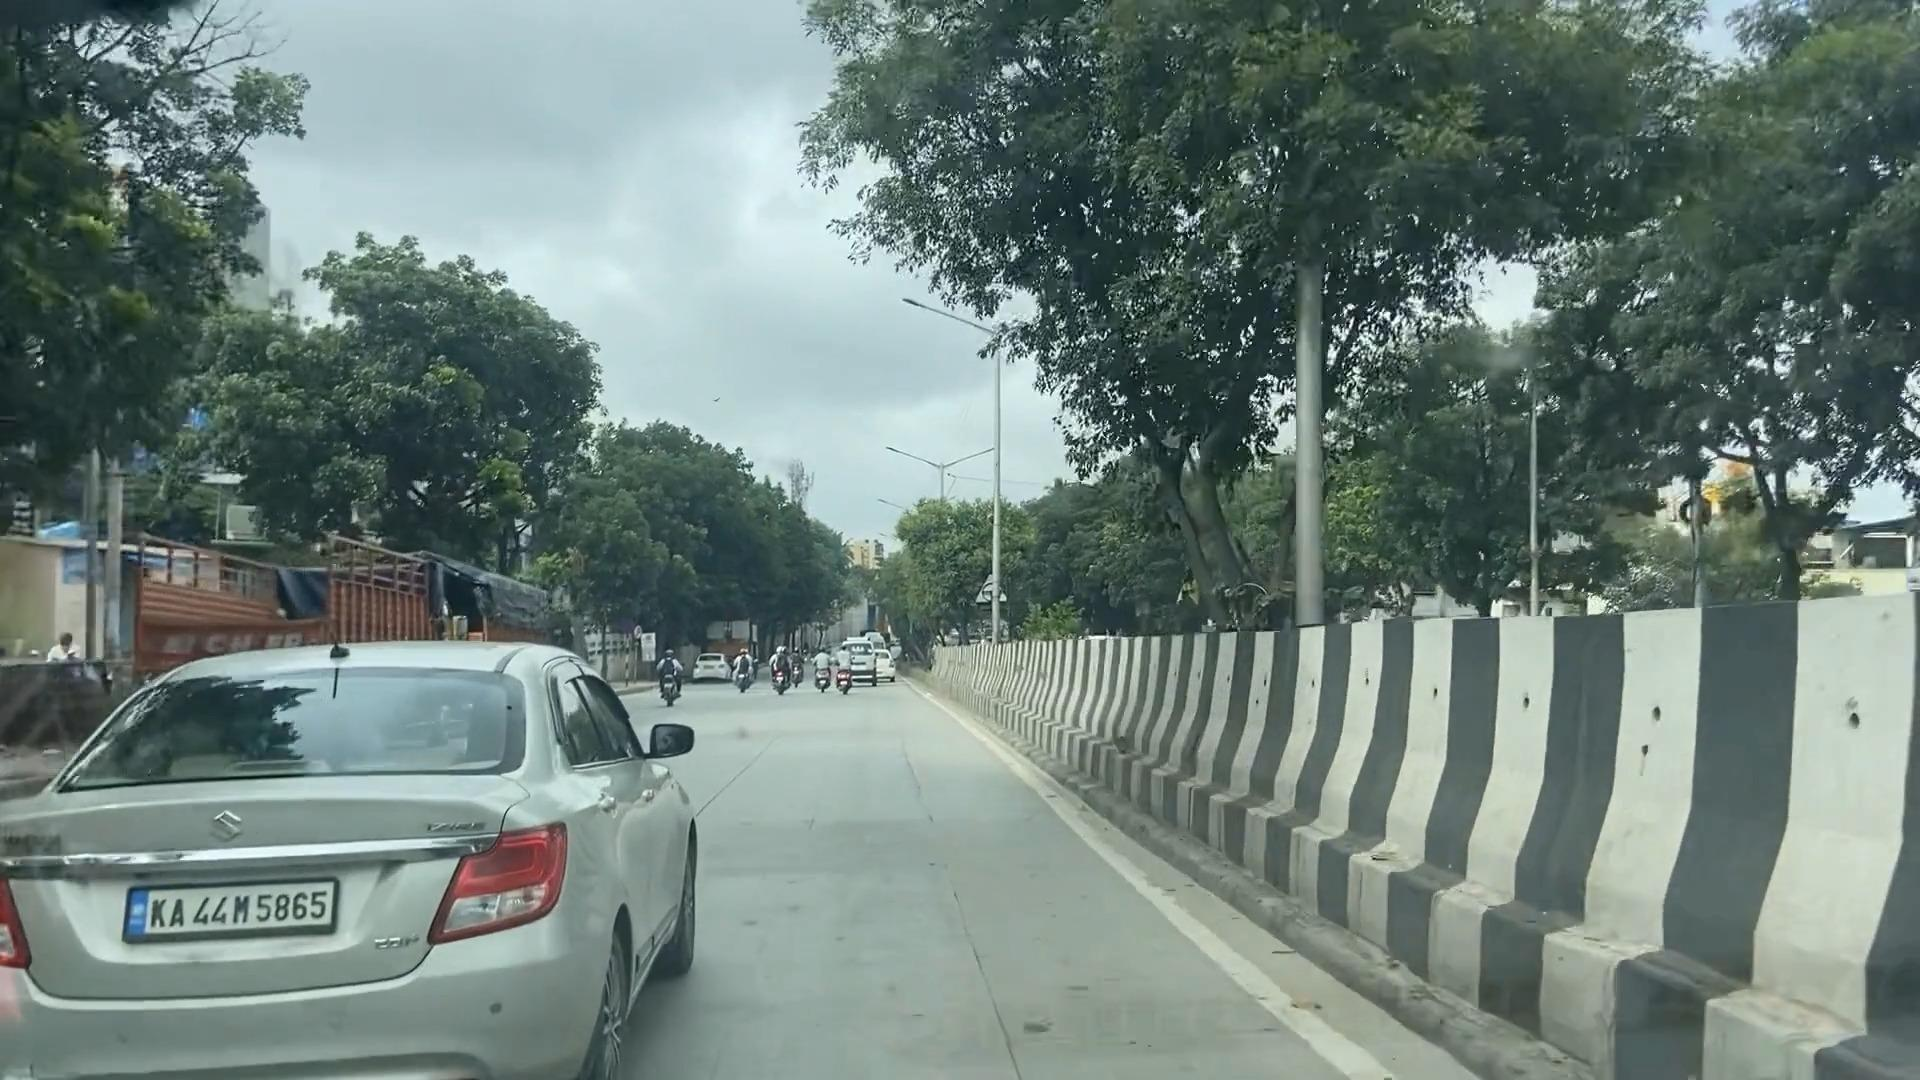LMV: (25, 638, 728, 1080)
